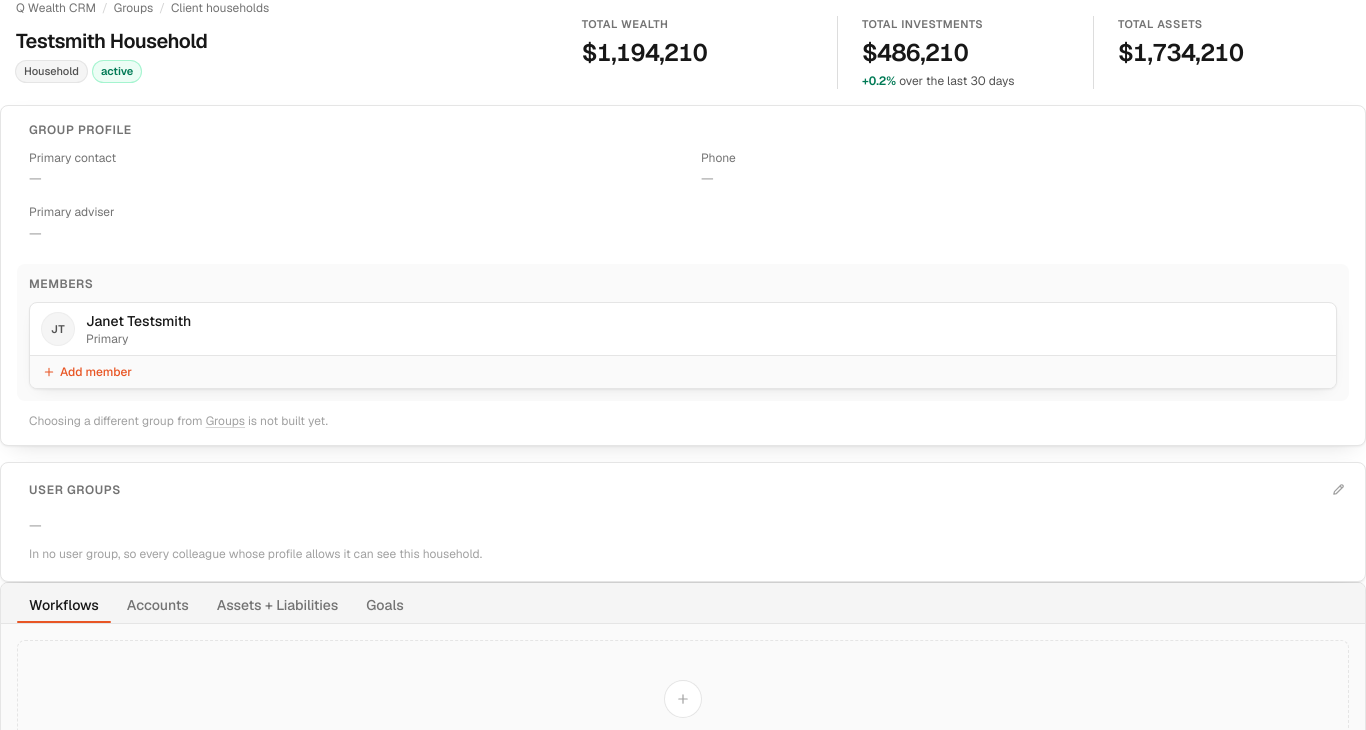
Test: the Assets + Liabilities tab › the totals › each column totals its own side, and the closed row is left out
Click the tab "Assets + Liabilities" at (278, 605), box [205,587,350,623]
(page scrolled)
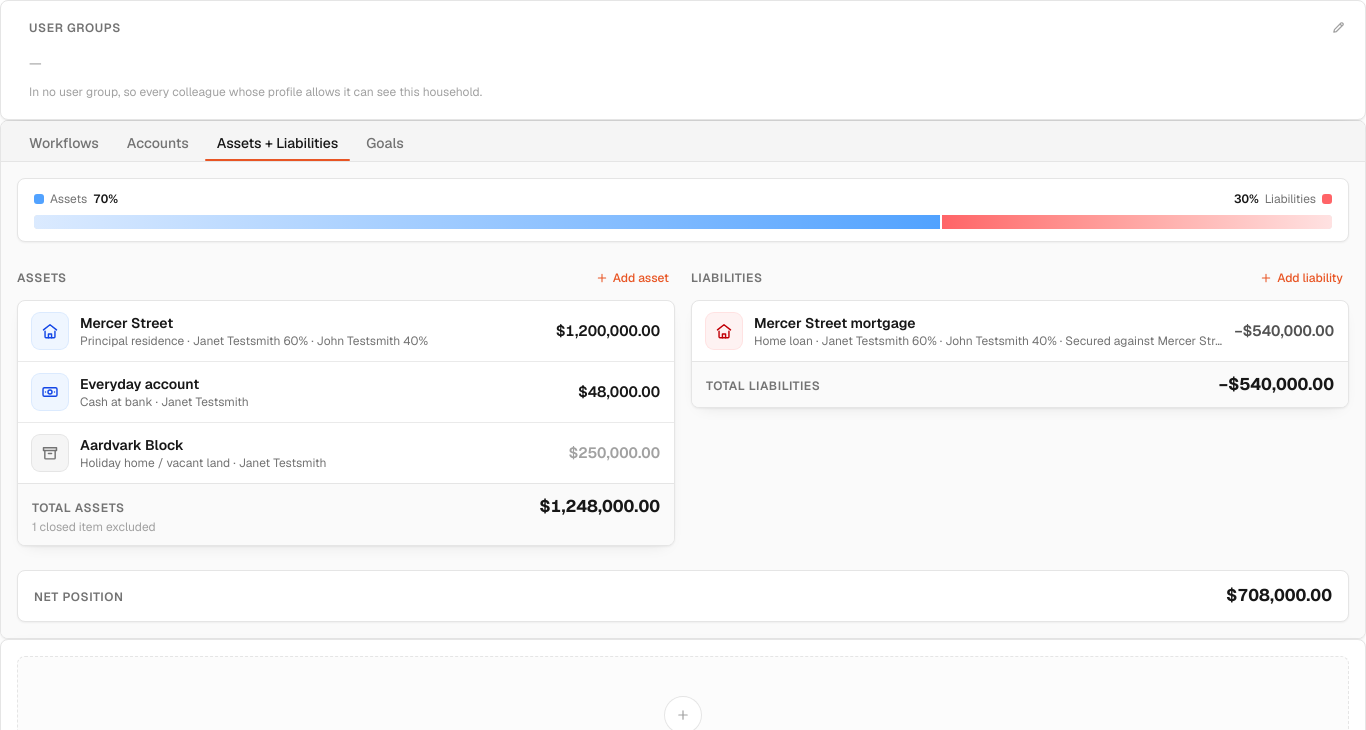
Check: the element showing "Total assets 1 closed item excluded $1,248,000.00" is shown, box [18,483,674,545]
